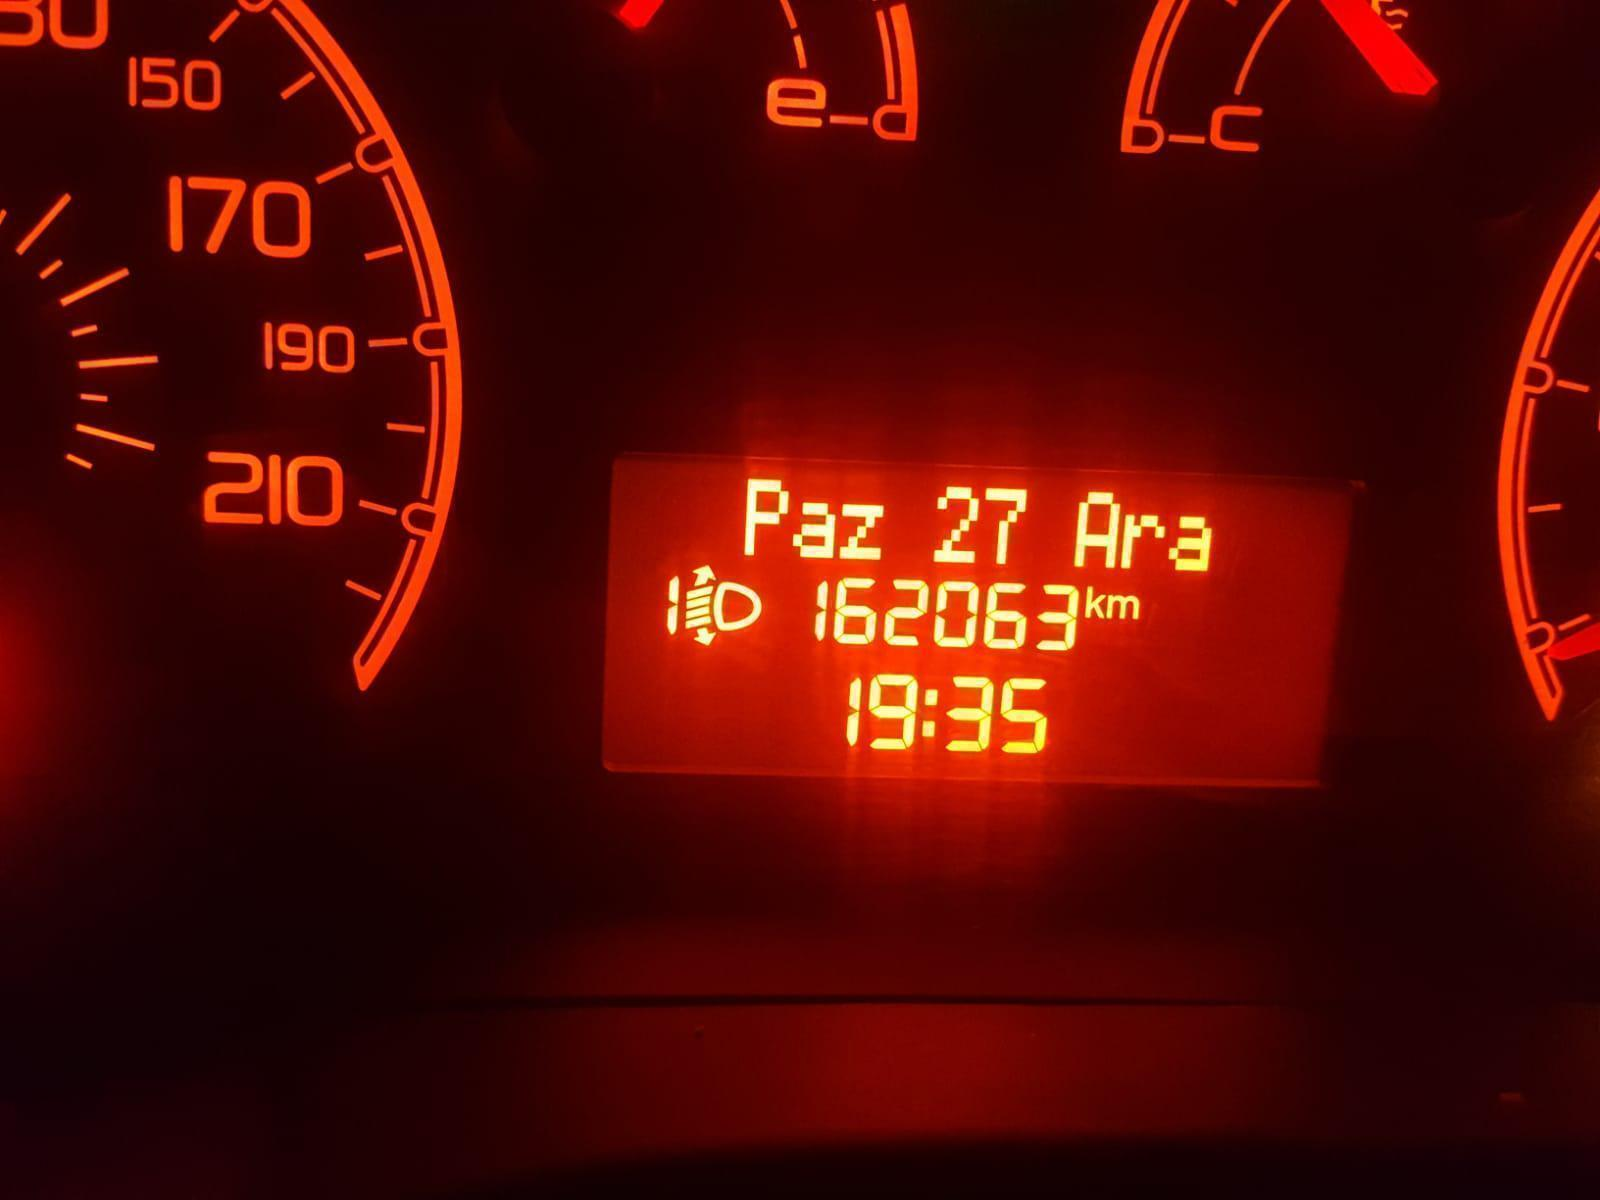0: (931, 579, 979, 649)
1: (837, 671, 860, 753), (661, 567, 680, 639), (813, 575, 828, 648)
2: (934, 480, 976, 566), (883, 574, 930, 650)
3: (947, 671, 991, 755), (1037, 579, 1078, 654)
5: (1002, 673, 1048, 758)
6: (834, 575, 877, 647), (985, 579, 1027, 650)
7: (984, 484, 1026, 567)
9: (868, 669, 913, 755)
X: (1071, 488, 1123, 568), (743, 474, 790, 558), (838, 499, 887, 563), (791, 494, 837, 562), (1170, 509, 1216, 575), (1120, 509, 1165, 571), (918, 683, 940, 742), (1107, 591, 1141, 624), (1083, 582, 1107, 621)
odometer: (606, 447, 1361, 805)
